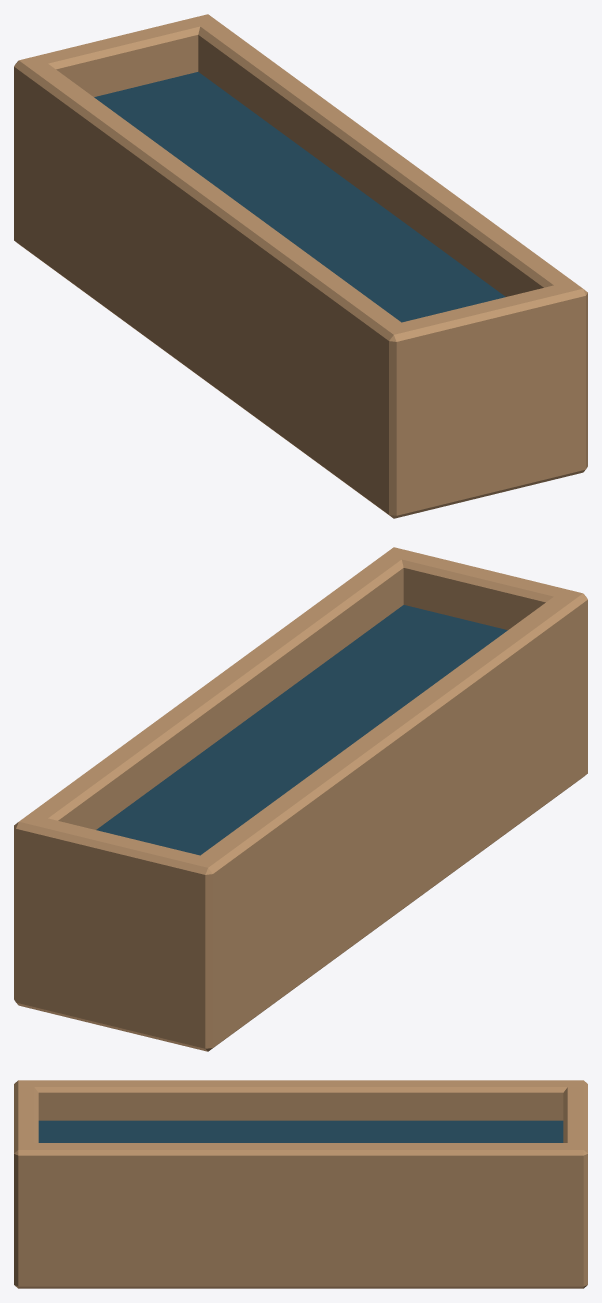
Rendered from Trough A.glb.
3 views of the same model, one above another, from view 1: azimuth 30°, elevation 25°; view 2: azimuth 150°, elevation 25°; view 3: azimuth 270°, elevation 25° (orthographic). The views are drawn at different scales.
Parts seen in each view (by area): view 1: Trough A; view 2: Trough A; view 3: Trough A.
Boxes of the visible parts, left/top/right/bottom form: Trough A: left=14, top=14, right=587, bottom=518; Trough A: left=14, top=547, right=587, bottom=1051; Trough A: left=14, top=1080, right=587, bottom=1288.
Bounding box in the file's own units: 45.27 × 40 × 150.
